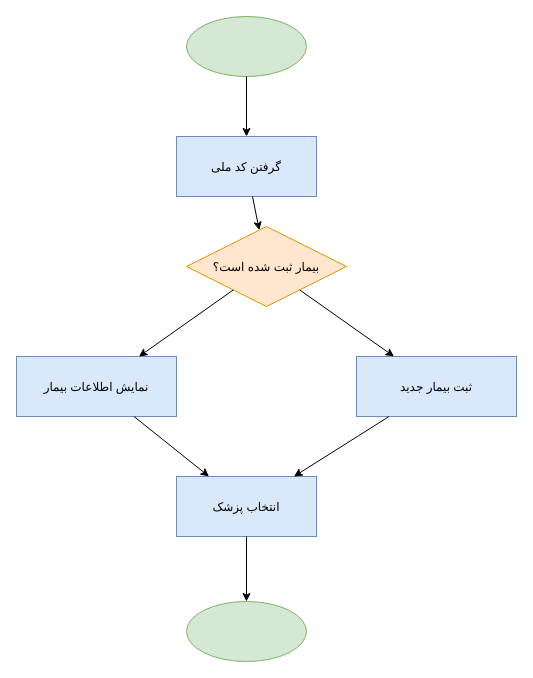
Some shapes in this 533 by 678 pixel diagram are drawn without their labels. Here are the shapes that lost their labels. From the top down, the centre of each, then its label:
At (x=246, y=46): "شروع پذیرش".
At (x=246, y=631): "پایان".
